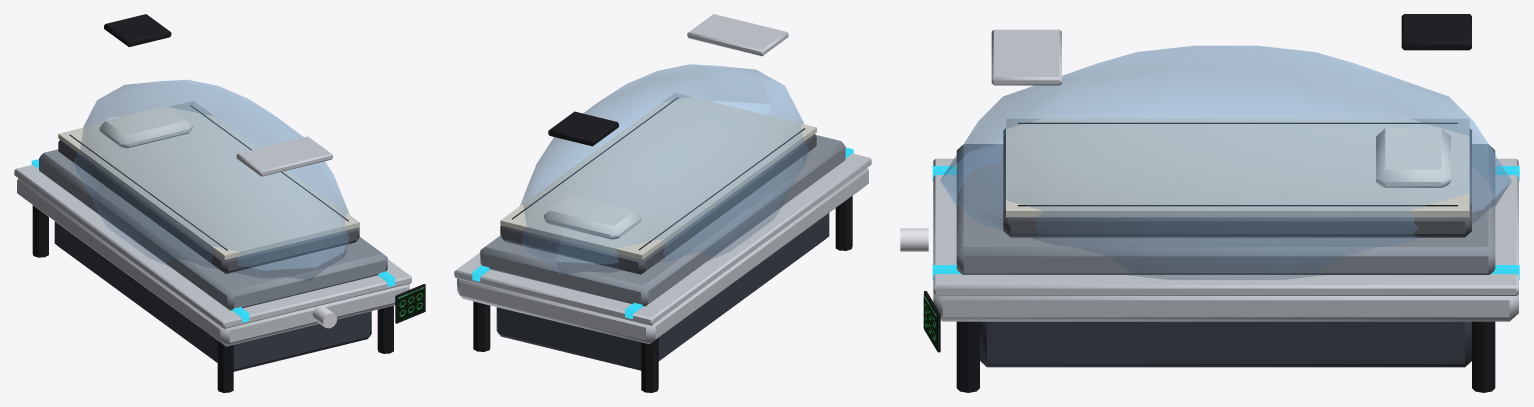
Rendered from bed_sleeping_pod.glb.
3 views of the same model, side by side, from view 1: azimuth 30°, elevation 25°; view 2: azimuth 150°, elevation 25°; view 3: azimuth 270°, elevation 25° (orthographic). The views are drawn at different scales.
Visible parts, largest first — view 1: bed_sleeping_pod; view 2: bed_sleeping_pod; view 3: bed_sleeping_pod.
Boxes of the visible parts, x1,y1,x2,y2 form: bed_sleeping_pod: (14,14,425,392); bed_sleeping_pod: (454,14,871,392); bed_sleeping_pod: (900,14,1519,392).
Size of the model in its own units: 1.4 by 1.44 by 2.64.
Materials: 12 (1 with a texture image).
